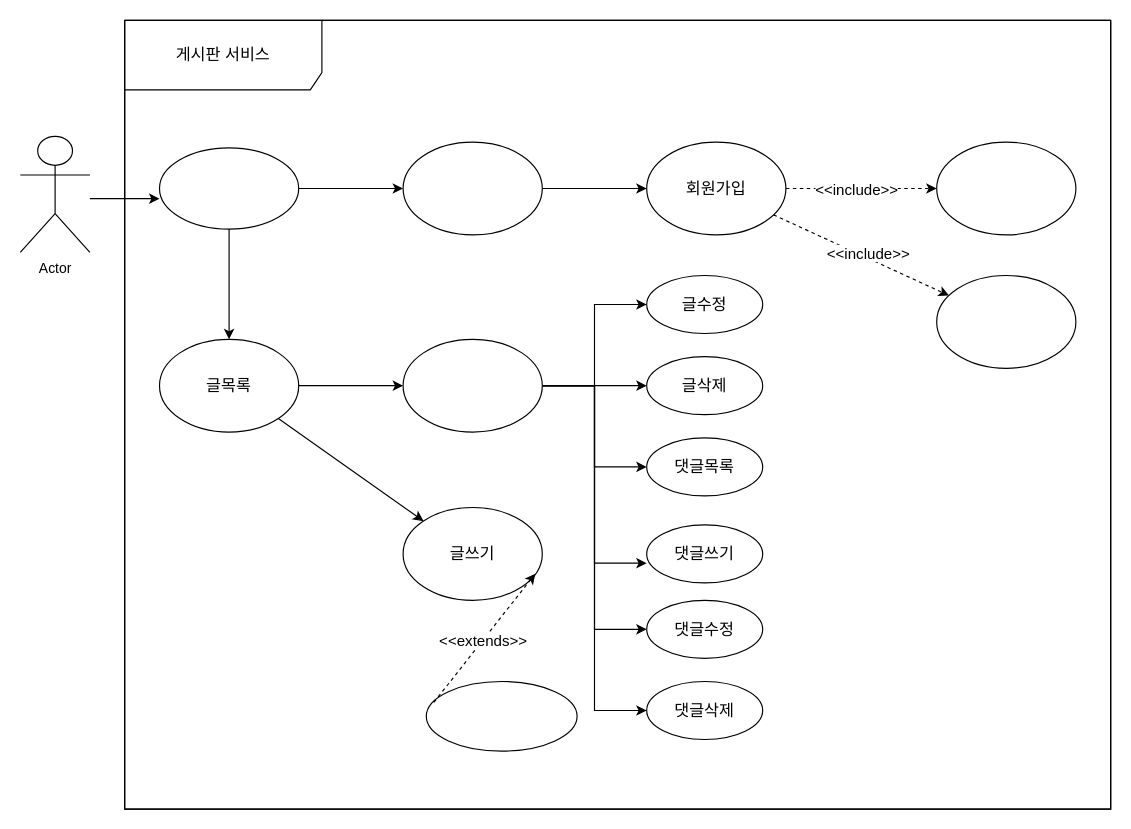
This 1131x829 diagram has some shape labels left out. Here are the shapes that lost their labels. From the top down, the centre of each, then its label:
point (228, 188): 로그인
point (472, 188): 약관
point (1006, 188): ID 중복체크
point (1006, 321): 우편번호 검색
point (472, 385): 글보기
point (501, 715): 파일업로드
